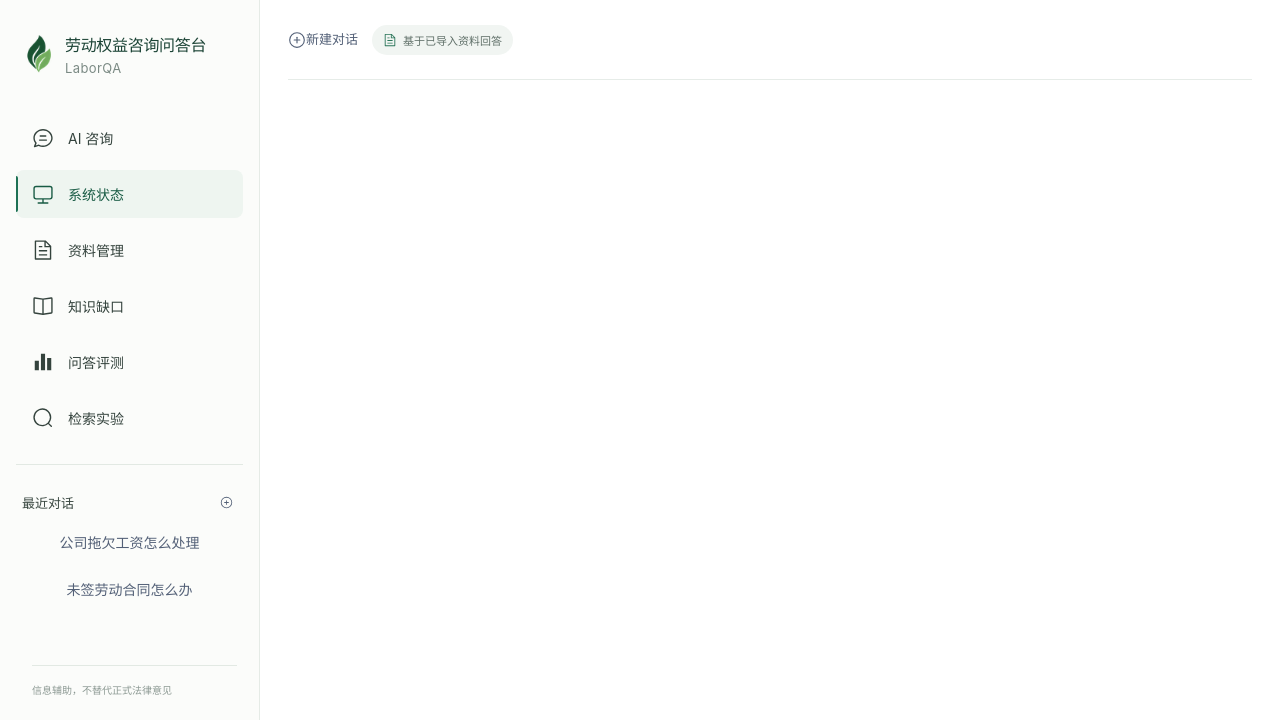
Scenario: App session navigation › keeps the active session and reports a refresh failure
This screenshot has width=1280, height=720.
Click the button with class "recent-add" at (226, 502), box [215,491,237,513]
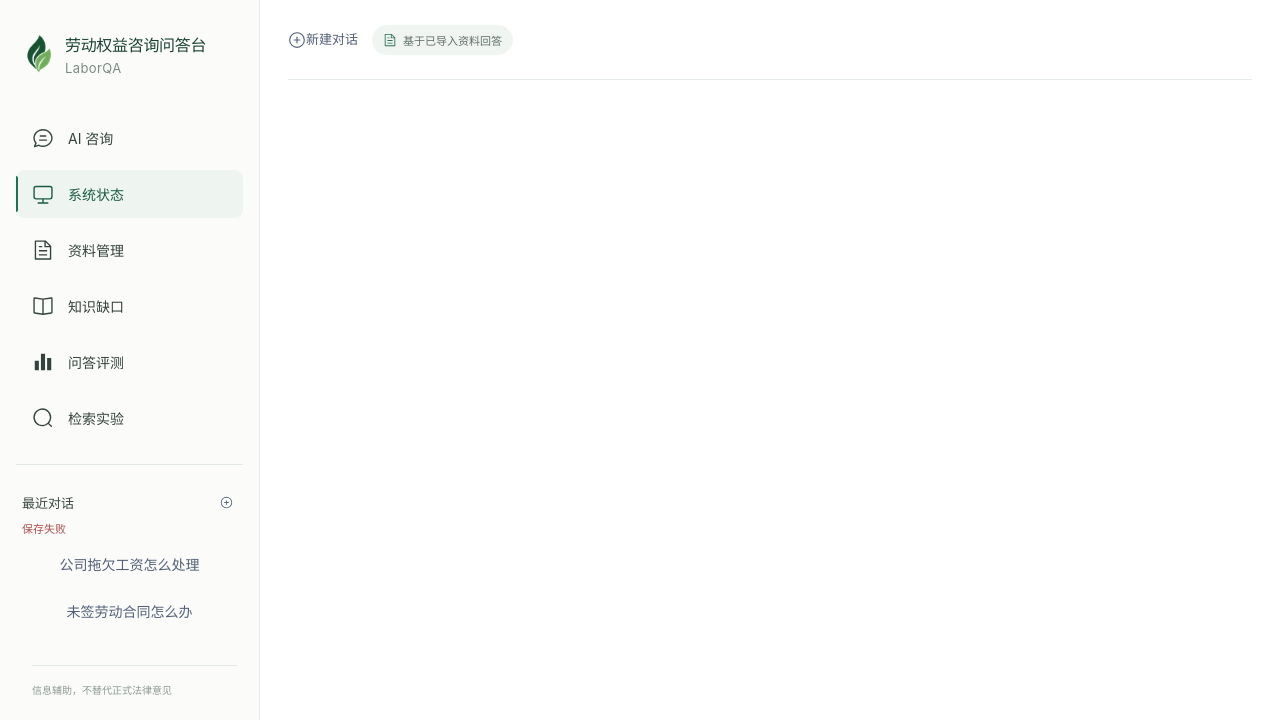
Result: the message "保存失败" is shown at [22,522,66,536]
